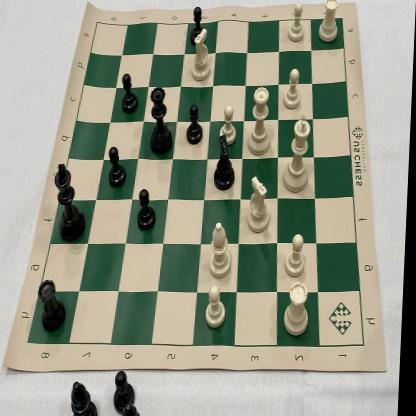black-king: (52, 160, 92, 246)
black-knight: (212, 134, 240, 191)
black-pawn: (136, 186, 161, 231), (107, 144, 131, 189), (119, 71, 141, 117), (185, 103, 207, 146), (190, 4, 206, 45)
black-queen: (148, 85, 177, 157)
black-rook: (38, 271, 72, 336)
white-bishop: (209, 219, 236, 280)
white-king: (283, 111, 317, 193)
white-knight: (247, 172, 275, 233), (190, 26, 214, 83)
white-pawn: (207, 283, 233, 329), (285, 232, 311, 278), (283, 67, 306, 111), (287, 1, 308, 43), (219, 103, 239, 144)
white-queen: (247, 82, 274, 158)
white-rook: (282, 280, 317, 338), (317, 0, 341, 44)
